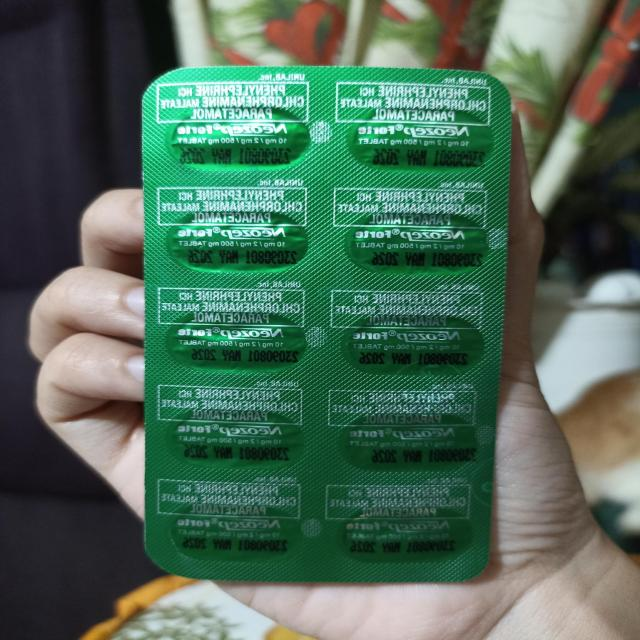Neozep_Strip: (126, 55, 530, 598)
